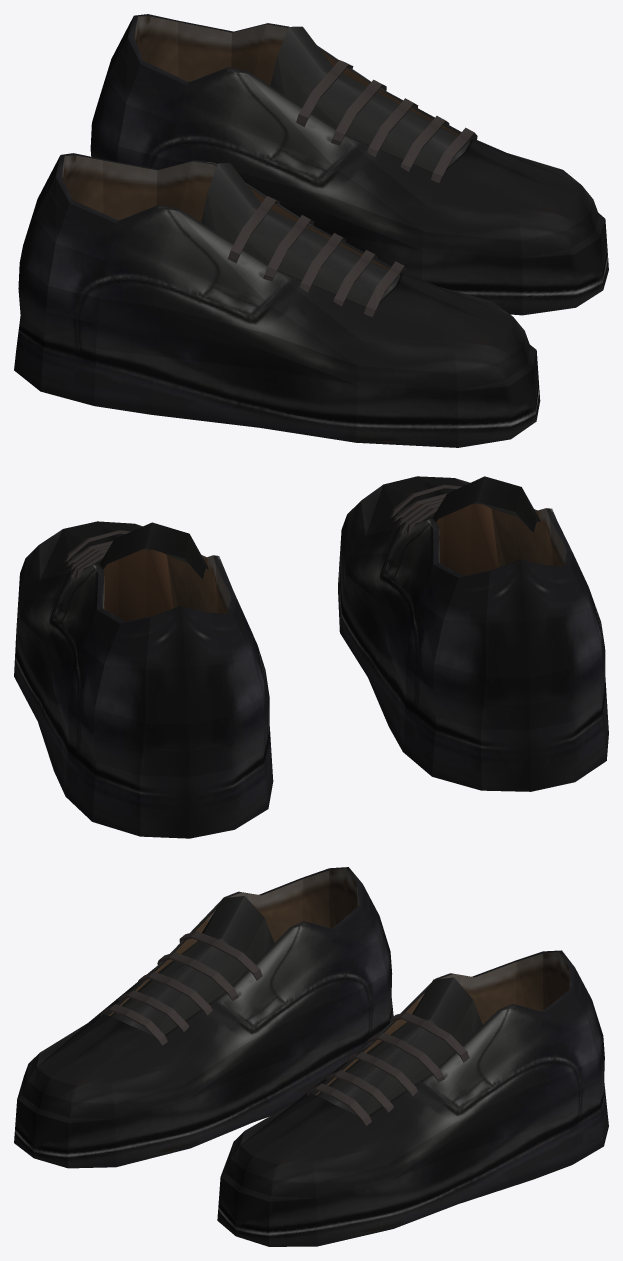
The model's file is TouKuiZheJia_01_pixie_01.FBX.
The picture shows the model from 3 angles, top to bottom: view 1: azimuth 30°, elevation 25°; view 2: azimuth 150°, elevation 25°; view 3: azimuth 270°, elevation 25°; orthographic projection. The views are drawn at different scales.
Parts seen in each view (by area): view 1: TouKuiZheJia_01_pixie_01; view 2: TouKuiZheJia_01_pixie_01; view 3: TouKuiZheJia_01_pixie_01.
Part boxes in pixels (bbox=[...]): TouKuiZheJia_01_pixie_01: bbox=[14, 14, 608, 447]; TouKuiZheJia_01_pixie_01: bbox=[14, 476, 608, 838]; TouKuiZheJia_01_pixie_01: bbox=[14, 867, 608, 1246].
Bounding box in the file's own units: 249 × 94.6 × 274.
